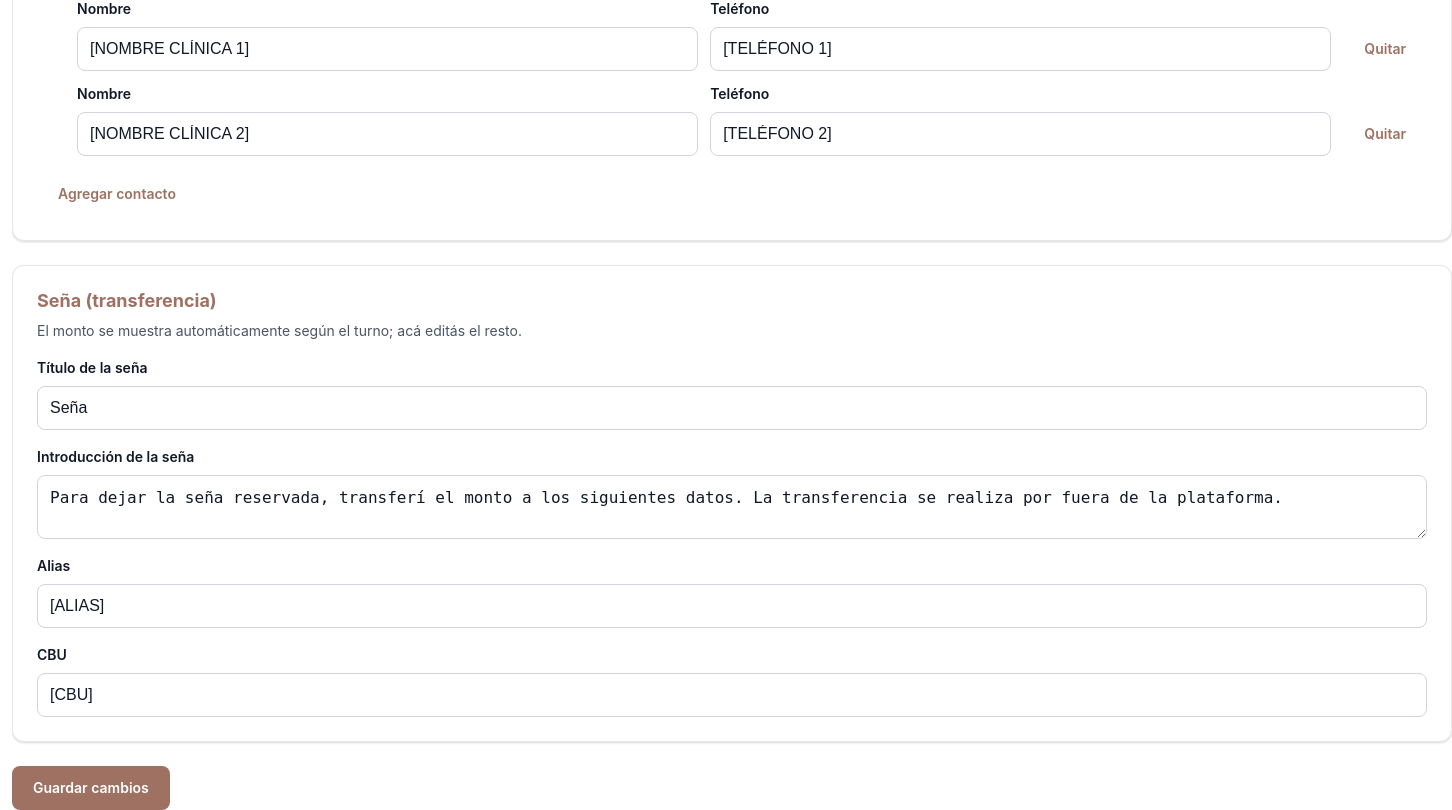
Test: ClinicInfoEditor › saves edited copy with a success toast
(page scrolled)
Step 1. Replace the text in the field labelled "Alias" with "mara.flamini" → [732, 606], box [37, 584, 1427, 628]
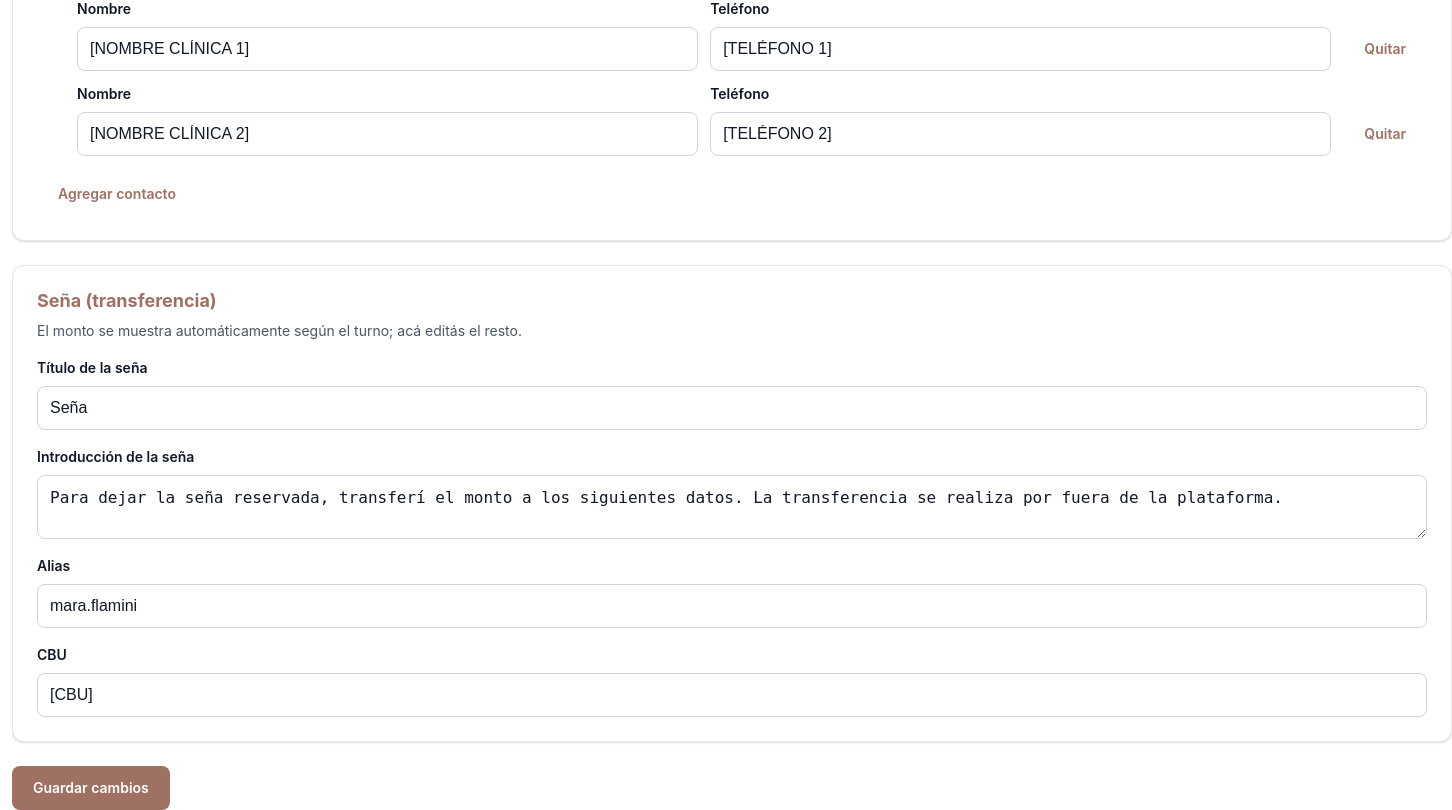
Step 2. Click the button "Guardar cambios" → [91, 788], box [12, 766, 170, 809]
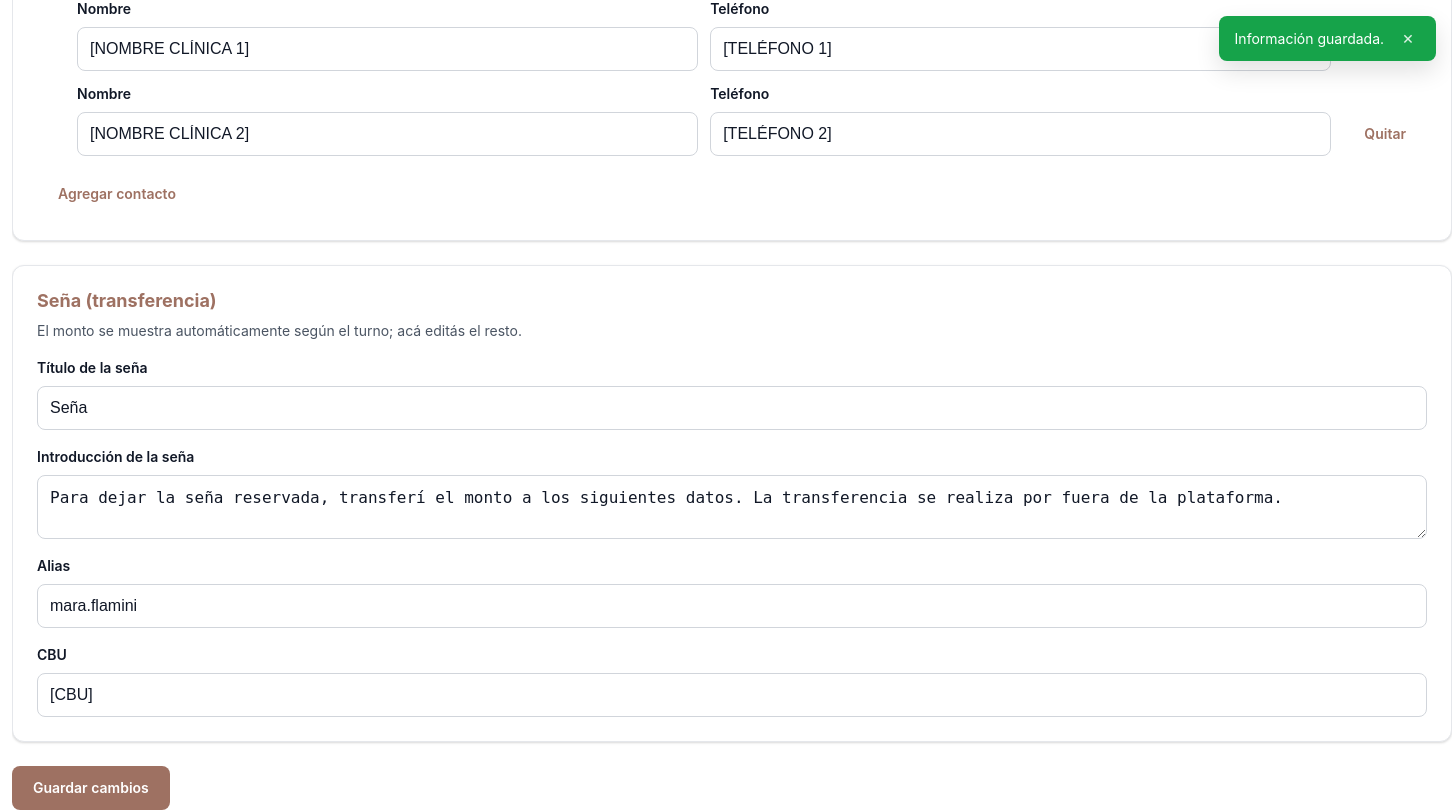
Expected: the message shows "Información guardada.", [1235, 30, 1384, 47]
